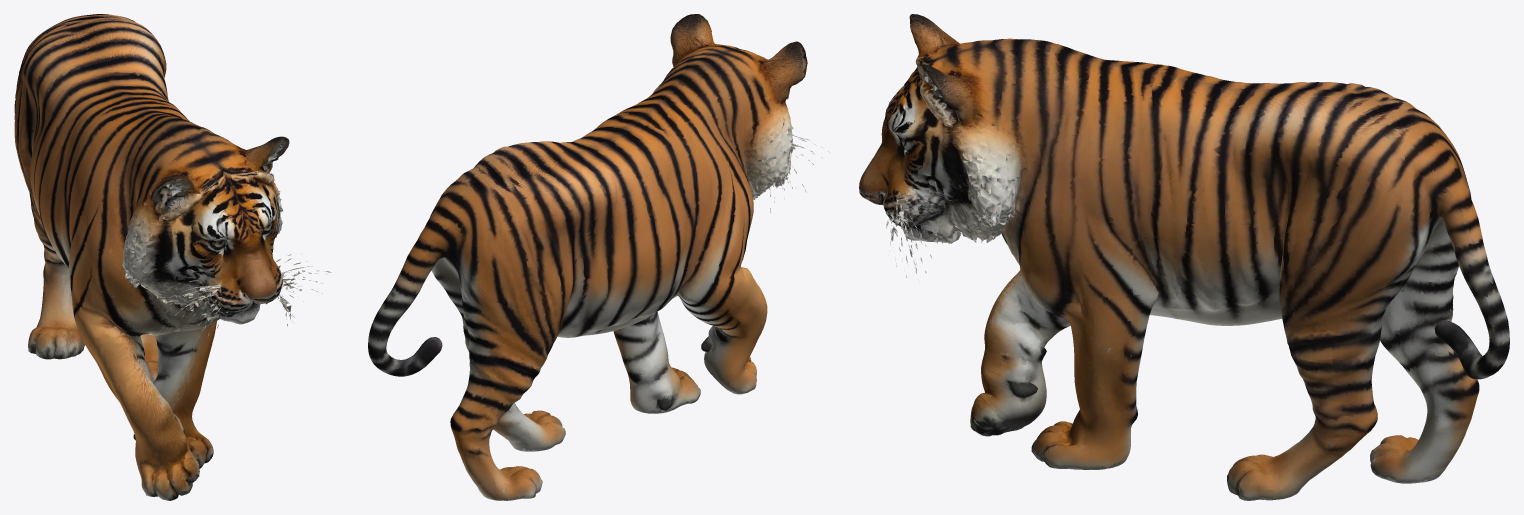
File: tiger.glb
3 views of the same model, side by side, from view 1: azimuth 30°, elevation 25°; view 2: azimuth 150°, elevation 25°; view 3: azimuth 270°, elevation 25° (orthographic). The views are drawn at different scales.
Parts seen in each view (by area): view 1: Object_5; view 2: Object_5; view 3: Object_5.
Boxes of the visible parts, bbox=[...] form: Object_5: bbox=[14, 14, 331, 500]; Object_5: bbox=[368, 14, 829, 500]; Object_5: bbox=[859, 14, 1509, 500].
Bounding box in the file's own units: 0.477 × 0.6957 × 1.
1 material, 1 textured.
